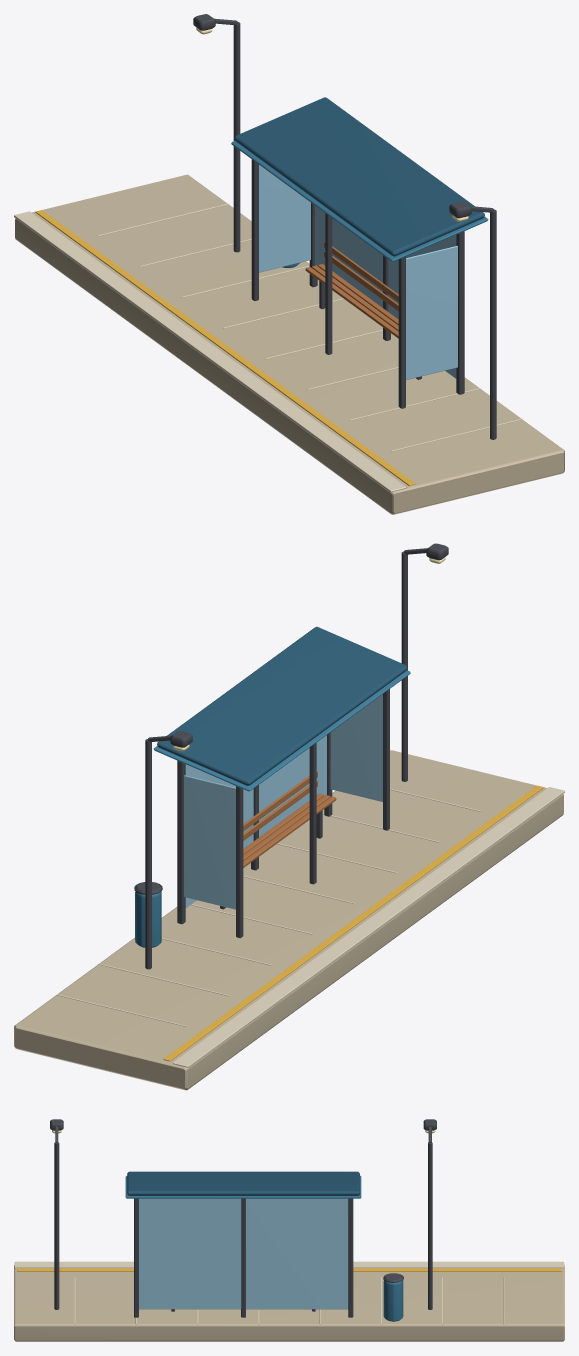
File: gare.glb
The picture shows the model from 3 angles, top to bottom: view 1: azimuth 30°, elevation 25°; view 2: azimuth 150°, elevation 25°; view 3: azimuth 270°, elevation 25°; orthographic projection. The views are drawn at different scales.
Parts seen in each view (by area): view 1: gare_quai.002, gare_abri_toit.002, gare_abri_verre.002, gare_gare_metal.002, gare_quai_bord.002, gare_quai_bande.002, gare_banc.002, gare_abri.002; view 2: gare_quai.002, gare_abri_toit.002, gare_abri_verre.002, gare_gare_metal.002, gare_quai_bord.002, gare_quai_bande.002, gare_banc.002, gare_abri.002; view 3: gare_quai.002, gare_abri_verre.002, gare_abri_toit.002, gare_gare_metal.002, gare_quai_bord.002, gare_abri.002, gare_quai_bande.002.
Part boxes in pixels (x1=…): gare_quai.002: x1=15, y1=174, x2=564, y2=514; gare_abri_toit.002: x1=234, y1=97, x2=484, y2=256; gare_abri_verre.002: x1=259, y1=165, x2=457, y2=379; gare_gare_metal.002: x1=193, y1=14, x2=496, y2=439; gare_quai_bord.002: x1=14, y1=203, x2=522, y2=492; gare_quai_bande.002: x1=35, y1=210, x2=415, y2=485; gare_banc.002: x1=305, y1=241, x2=398, y2=338; gare_abri.002: x1=231, y1=141, x2=488, y2=267; gare_quai.002: x1=14, y1=750, x2=563, y2=1090; gare_abri_toit.002: x1=157, y1=626, x2=407, y2=786; gare_abri_verre.002: x1=184, y1=694, x2=382, y2=909; gare_gare_metal.002: x1=134, y1=543, x2=448, y2=969; gare_quai_bord.002: x1=56, y1=787, x2=564, y2=1067; gare_quai_bande.002: x1=163, y1=785, x2=543, y2=1061; gare_banc.002: x1=243, y1=771, x2=336, y2=867; gare_abri.002: x1=135, y1=670, x2=410, y2=947; gare_quai.002: x1=14, y1=1265, x2=564, y2=1341; gare_abri_verre.002: x1=139, y1=1198, x2=348, y2=1309; gare_abri_toit.002: x1=127, y1=1171, x2=359, y2=1195; gare_gare_metal.002: x1=50, y1=1119, x2=436, y2=1317; gare_quai_bord.002: x1=14, y1=1261, x2=564, y2=1324; gare_abri.002: x1=125, y1=1175, x2=403, y2=1321; gare_quai_bande.002: x1=17, y1=1268, x2=561, y2=1271.
Size of the model in its own units: 2.41 by 3.49 by 9.
